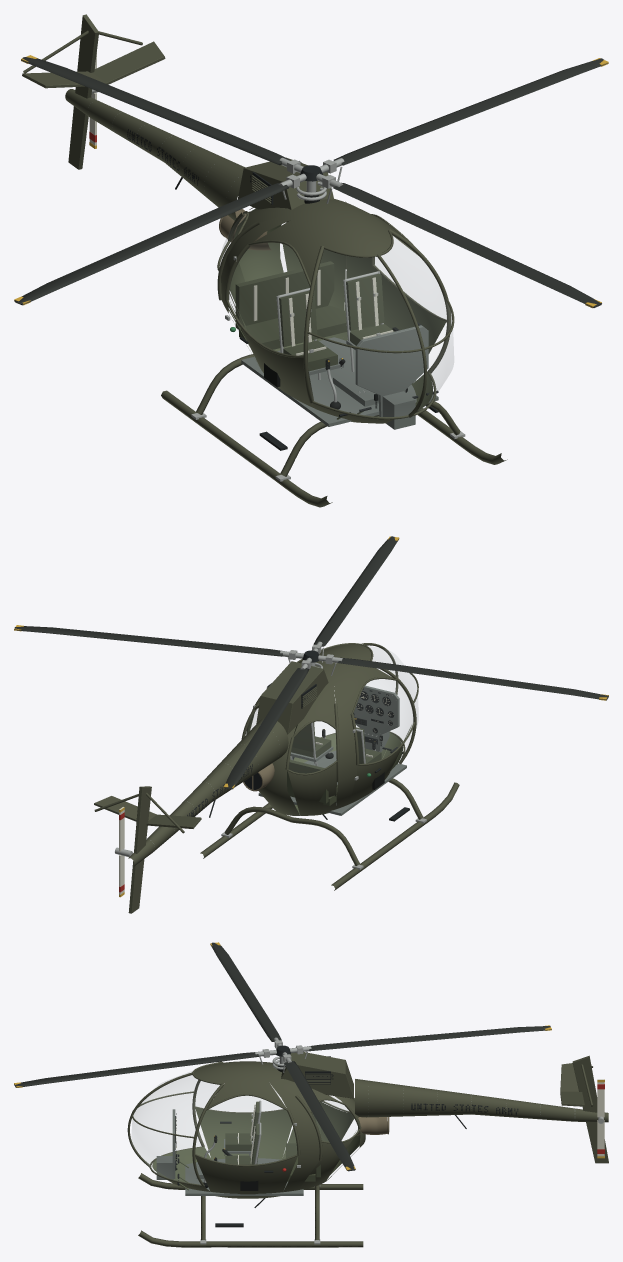
Rendered from source.glb.
The picture shows the model from 3 angles, top to bottom: view 1: azimuth 30°, elevation 25°; view 2: azimuth 150°, elevation 25°; view 3: azimuth 270°, elevation 25°; orthographic projection. The views are drawn at different scales.
Parts seen in each view (by area): view 1: rotor-airfoil (×4), cabin-panels, cabin-interior, tail-boom, instrument-panel, glazing-upright, aft-seat-back, seat-back (×2), floor, tail-fin, transmission-fairing, skid--1 (+10 smaller); view 2: cabin-panels, rotor-airfoil (×4), tail-boom, transmission-fairing, instrument-panel, glazing-upright, tail-fin, skid--1, windshield-glazing, floor, cabin-interior, tail-stabilizer--1 (+4 smaller); view 3: cabin-panels, rotor-airfoil (×4), tail-boom, cabin-interior, windshield-glazing, transmission-fairing, glazing-upright, skid-1, tail-fin, floor, door-glazing, door-seal (+4 smaller).
Part boxes in pixels (bbox=[...]): rotor-airfoil (×4): bbox=[14, 57, 608, 307]; cabin-panels: bbox=[221, 199, 418, 423]; cabin-interior: bbox=[228, 208, 446, 417]; tail-boom: bbox=[65, 89, 245, 224]; instrument-panel: bbox=[355, 325, 428, 416]; glazing-upright: bbox=[217, 201, 451, 417]; aft-seat-back: bbox=[235, 261, 334, 329]; seat-back (×2): bbox=[279, 273, 384, 346]; floor: bbox=[241, 337, 438, 426]; tail-fin: bbox=[68, 14, 99, 169]; transmission-fairing: bbox=[238, 157, 334, 222]; skid--1: bbox=[161, 390, 332, 507]; cabin-panels: bbox=[258, 644, 404, 815]; rotor-airfoil (×4): bbox=[14, 536, 608, 789]; tail-boom: bbox=[128, 718, 288, 866]; transmission-fairing: bbox=[256, 661, 328, 734]; instrument-panel: bbox=[354, 685, 399, 752]; glazing-upright: bbox=[241, 643, 416, 782]; tail-fin: bbox=[128, 786, 151, 913]; skid--1: bbox=[331, 782, 459, 890]; windshield-glazing: bbox=[368, 646, 418, 726]; floor: bbox=[258, 750, 406, 815]; cabin-interior: bbox=[246, 713, 411, 814]; tail-stabilizer--1: bbox=[146, 814, 201, 828]; cabin-panels: bbox=[166, 1061, 365, 1198]; rotor-airfoil (×4): bbox=[14, 942, 551, 1171]; tail-boom: bbox=[355, 1079, 608, 1122]; cabin-interior: bbox=[152, 1101, 360, 1182]; windshield-glazing: bbox=[131, 1071, 200, 1166]; transmission-fairing: bbox=[281, 1052, 353, 1098]; glazing-upright: bbox=[127, 1061, 361, 1186]; skid-1: bbox=[138, 1230, 363, 1247]; tail-fin: bbox=[572, 1055, 608, 1163]; floor: bbox=[185, 1158, 303, 1195]; door-glazing: bbox=[209, 1096, 283, 1112]; door-seal: bbox=[195, 1094, 298, 1166].
Size of what is drawn, in the model's own units: 7.83 by 2.73 by 8.66.
